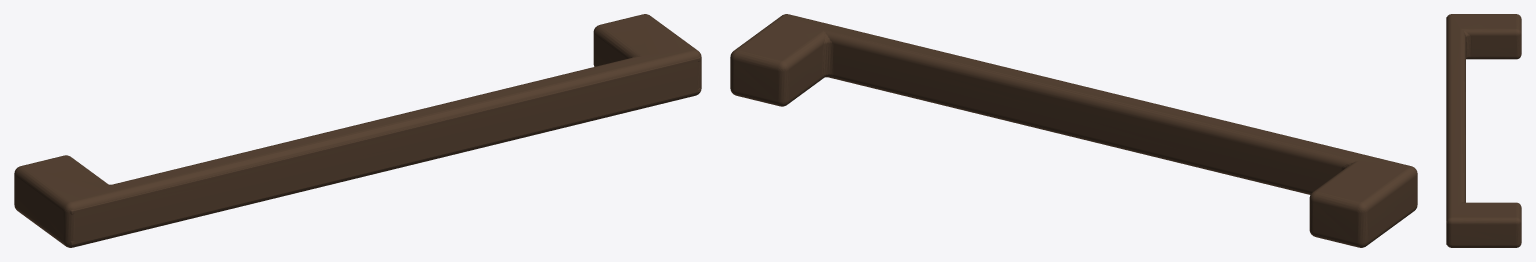
Rendered from eurofit-h-61364-160orb-v3.glb.
3 views of the same model, side by side, from view 1: azimuth 30°, elevation 25°; view 2: azimuth 150°, elevation 25°; view 3: azimuth 270°, elevation 25° (orthographic). The views are drawn at different scales.
Parts seen in each view (by area): view 1: Continuous U grip and legs, Parallel grip moulding.001, Parallel grip moulding; view 2: Continuous U grip and legs; view 3: Continuous U grip and legs, Parallel grip moulding.001.
Boxes of the visible parts, x1=… form: Continuous U grip and legs: x1=14, y1=14, x2=701, y2=247; Parallel grip moulding.001: x1=70, y1=57, x2=700, y2=214; Parallel grip moulding: x1=70, y1=88, x2=700, y2=245; Continuous U grip and legs: x1=730, y1=14, x2=1417, y2=247; Continuous U grip and legs: x1=1446, y1=14, x2=1521, y2=247; Parallel grip moulding.001: x1=1446, y1=17, x2=1447, y2=223.
Bounding box in the file's own units: 0.176 × 0.012 × 0.027.
